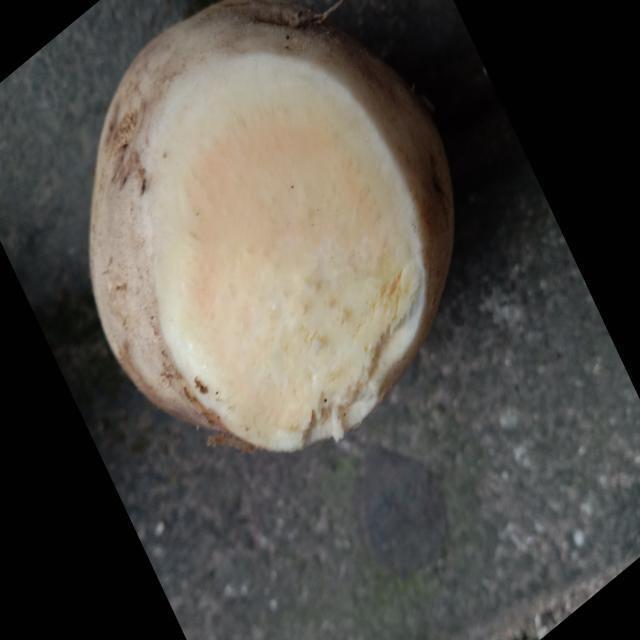Healthy Sweet Potato: (146, 53, 425, 452)
